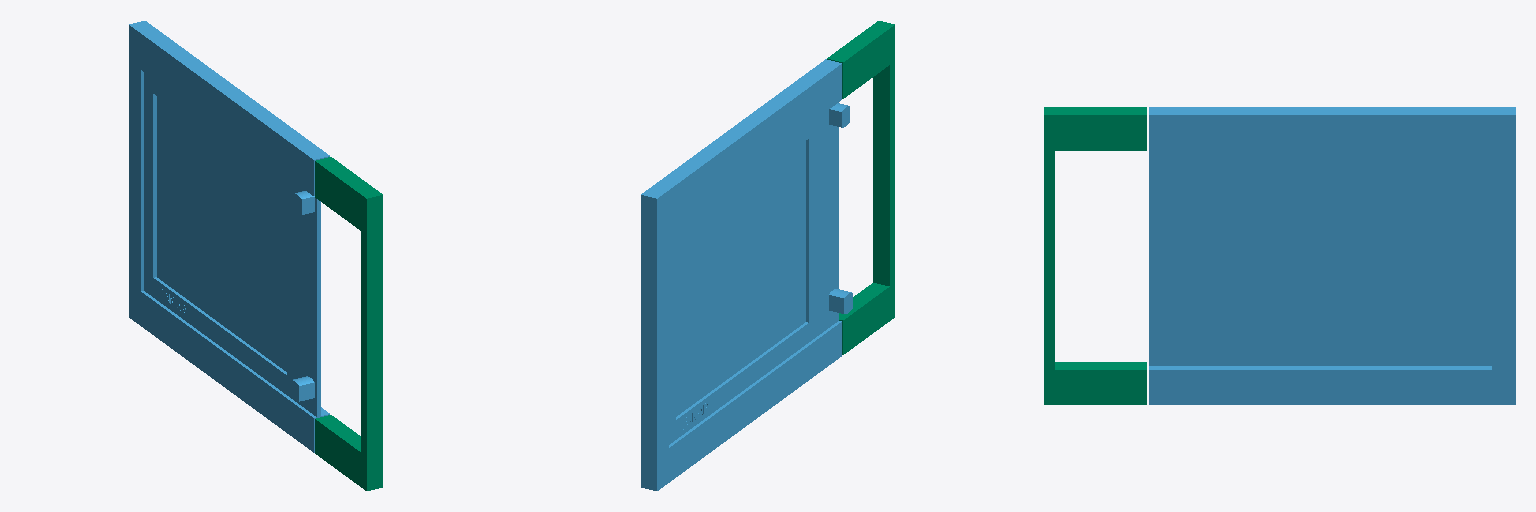
robot.urdf — partnet_c5d13a109a61060c178e7d331e641179:
<?xml version="1.0" ?>
<robot name="partnet_c5d13a109a61060c178e7d331e641179">
	<link name="base"/>
	<link name="link_0">
		<visual name="door_frame-5">
			<origin xyz="0.7663123617888119 -0.4711569999999998 -0.39380938953471023"/>
			<geometry>
				<mesh filename="textured_objs/original-1.obj"/>
			</geometry>
		</visual>
		<visual name="glass-6">
			<origin xyz="0.7663123617888119 -0.4711569999999998 -0.39380938953471023"/>
			<geometry>
				<mesh filename="textured_objs/original-6.obj"/>
			</geometry>
		</visual>
		<visual name="glass-6">
			<origin xyz="0.7663123617888119 -0.4711569999999998 -0.39380938953471023"/>
			<geometry>
				<mesh filename="textured_objs/original-9.obj"/>
			</geometry>
		</visual>
		<visual name="glass-6">
			<origin xyz="0.7663123617888119 -0.4711569999999998 -0.39380938953471023"/>
			<geometry>
				<mesh filename="textured_objs/original-17.obj"/>
			</geometry>
		</visual>
		<visual name="glass-6">
			<origin xyz="0.7663123617888119 -0.4711569999999998 -0.39380938953471023"/>
			<geometry>
				<mesh filename="textured_objs/original-10.obj"/>
			</geometry>
		</visual>
		<visual name="glass-6">
			<origin xyz="0.7663123617888119 -0.4711569999999998 -0.39380938953471023"/>
			<geometry>
				<mesh filename="textured_objs/original-11.obj"/>
			</geometry>
		</visual>
		<visual name="glass-6">
			<origin xyz="0.7663123617888119 -0.4711569999999998 -0.39380938953471023"/>
			<geometry>
				<mesh filename="textured_objs/original-12.obj"/>
			</geometry>
		</visual>
		<visual name="glass-6">
			<origin xyz="0.7663123617888119 -0.4711569999999998 -0.39380938953471023"/>
			<geometry>
				<mesh filename="textured_objs/original-13.obj"/>
			</geometry>
		</visual>
		<visual name="glass-6">
			<origin xyz="0.7663123617888119 -0.4711569999999998 -0.39380938953471023"/>
			<geometry>
				<mesh filename="textured_objs/original-14.obj"/>
			</geometry>
		</visual>
		<visual name="glass-6">
			<origin xyz="0.7663123617888119 -0.4711569999999998 -0.39380938953471023"/>
			<geometry>
				<mesh filename="textured_objs/original-15.obj"/>
			</geometry>
		</visual>
		<visual name="glass-6">
			<origin xyz="0.7663123617888119 -0.4711569999999998 -0.39380938953471023"/>
			<geometry>
				<mesh filename="textured_objs/original-16.obj"/>
			</geometry>
		</visual>
		<visual name="glass-6">
			<origin xyz="0.7663123617888119 -0.4711569999999998 -0.39380938953471023"/>
			<geometry>
				<mesh filename="textured_objs/original-3.obj"/>
			</geometry>
		</visual>
		<visual name="handle-7">
			<origin xyz="0.7663123617888119 -0.4711569999999998 -0.39380938953471023"/>
			<geometry>
				<mesh filename="textured_objs/original-19.obj"/>
			</geometry>
		</visual>
		<visual name="handle-7">
			<origin xyz="0.7663123617888119 -0.4711569999999998 -0.39380938953471023"/>
			<geometry>
				<mesh filename="textured_objs/original-21.obj"/>
			</geometry>
		</visual>
		<visual name="handle-7">
			<origin xyz="0.7663123617888119 -0.4711569999999998 -0.39380938953471023"/>
			<geometry>
				<mesh filename="textured_objs/original-20.obj"/>
			</geometry>
		</visual>
		<collision>
			<origin xyz="0.7663123617888119 -0.4711569999999998 -0.39380938953471023"/>
			<geometry>
				<mesh filename="textured_objs/original-1.obj"/>
			</geometry>
		</collision>
		<collision>
			<origin xyz="0.7663123617888119 -0.4711569999999998 -0.39380938953471023"/>
			<geometry>
				<mesh filename="textured_objs/original-6.obj"/>
			</geometry>
		</collision>
		<collision>
			<origin xyz="0.7663123617888119 -0.4711569999999998 -0.39380938953471023"/>
			<geometry>
				<mesh filename="textured_objs/original-9.obj"/>
			</geometry>
		</collision>
		<collision>
			<origin xyz="0.7663123617888119 -0.4711569999999998 -0.39380938953471023"/>
			<geometry>
				<mesh filename="textured_objs/original-17.obj"/>
			</geometry>
		</collision>
		<collision>
			<origin xyz="0.7663123617888119 -0.4711569999999998 -0.39380938953471023"/>
			<geometry>
				<mesh filename="textured_objs/original-10.obj"/>
			</geometry>
		</collision>
		<collision>
			<origin xyz="0.7663123617888119 -0.4711569999999998 -0.39380938953471023"/>
			<geometry>
				<mesh filename="textured_objs/original-11.obj"/>
			</geometry>
		</collision>
		<collision>
			<origin xyz="0.7663123617888119 -0.4711569999999998 -0.39380938953471023"/>
			<geometry>
				<mesh filename="textured_objs/original-12.obj"/>
			</geometry>
		</collision>
		<collision>
			<origin xyz="0.7663123617888119 -0.4711569999999998 -0.39380938953471023"/>
			<geometry>
				<mesh filename="textured_objs/original-13.obj"/>
			</geometry>
		</collision>
		<collision>
			<origin xyz="0.7663123617888119 -0.4711569999999998 -0.39380938953471023"/>
			<geometry>
				<mesh filename="textured_objs/original-14.obj"/>
			</geometry>
		</collision>
		<collision>
			<origin xyz="0.7663123617888119 -0.4711569999999998 -0.39380938953471023"/>
			<geometry>
				<mesh filename="textured_objs/original-15.obj"/>
			</geometry>
		</collision>
		<collision>
			<origin xyz="0.7663123617888119 -0.4711569999999998 -0.39380938953471023"/>
			<geometry>
				<mesh filename="textured_objs/original-16.obj"/>
			</geometry>
		</collision>
		<collision>
			<origin xyz="0.7663123617888119 -0.4711569999999998 -0.39380938953471023"/>
			<geometry>
				<mesh filename="textured_objs/original-3.obj"/>
			</geometry>
		</collision>
		<collision>
			<origin xyz="0.7663123617888119 -0.4711569999999998 -0.39380938953471023"/>
			<geometry>
				<mesh filename="textured_objs/original-19.obj"/>
			</geometry>
		</collision>
		<collision>
			<origin xyz="0.7663123617888119 -0.4711569999999998 -0.39380938953471023"/>
			<geometry>
				<mesh filename="textured_objs/original-21.obj"/>
			</geometry>
		</collision>
		<collision>
			<origin xyz="0.7663123617888119 -0.4711569999999998 -0.39380938953471023"/>
			<geometry>
				<mesh filename="textured_objs/original-20.obj"/>
			</geometry>
		</collision>
	</link>
	<joint name="joint_0" type="revolute">
		<origin xyz="-0.7663123617888119 0.4711569999999998 0.39380938953471023"/>
		<axis xyz="0 -1 0"/>
		<child link="link_0"/>
		<parent link="link_1"/>
		<limit lower="-0.0" upper="1.5707963267948966"/>
	</joint>
	<link name="link_1">
		<visual name="frame-2">
			<origin xyz="0 0 0"/>
			<geometry>
				<mesh filename="textured_objs/original-2.obj"/>
			</geometry>
		</visual>
		<visual name="frame-2">
			<origin xyz="0 0 0"/>
			<geometry>
				<mesh filename="textured_objs/new-11.obj"/>
			</geometry>
		</visual>
		<visual name="frame-2">
			<origin xyz="0 0 0"/>
			<geometry>
				<mesh filename="textured_objs/original-7.obj"/>
			</geometry>
		</visual>
		<collision>
			<origin xyz="0 0 0"/>
			<geometry>
				<mesh filename="textured_objs/original-2.obj"/>
			</geometry>
		</collision>
		<collision>
			<origin xyz="0 0 0"/>
			<geometry>
				<mesh filename="textured_objs/new-11.obj"/>
			</geometry>
		</collision>
		<collision>
			<origin xyz="0 0 0"/>
			<geometry>
				<mesh filename="textured_objs/original-7.obj"/>
			</geometry>
		</collision>
		<collision>
			<origin xyz="0 0 0"/>
			<geometry>
				<mesh filename="textured_objs/original-4.obj"/>
			</geometry>
		</collision>
	</link>
	<joint name="joint_1" type="fixed">
		<origin rpy="1.570796326794897 0 -1.570796326794897" xyz="0 0 0"/>
		<child link="link_1"/>
		<parent link="base"/>
	</joint>
</robot>

--- Render facts (derived) ---
The picture shows the robot from 3 angles, left to right: view 1: azimuth 30°, elevation 25°; view 2: azimuth 150°, elevation 25°; view 3: azimuth 270°, elevation 25°; orthographic projection.
Model partnet_c5d13a109a61060c178e7d331e641179 with 3 links and 2 joints (1 revolute, 1 fixed), rooted at base, posed all joints at 0.
Links seen in each view (by area): view 1: link_0, link_1; view 2: link_0, link_1; view 3: link_0, link_1.
Boxes of the visible links, x1,y1,x2,y2 form: link_0: [129, 21, 329, 452]; link_1: [315, 157, 382, 490]; link_0: [641, 59, 852, 490]; link_1: [827, 21, 894, 354]; link_0: [1149, 107, 1515, 404]; link_1: [1044, 107, 1146, 404].
Size in the robot's own frame: 0.0923 by 1.31 by 0.8896 metres.
14 mesh visuals loaded from 18 distinct referenced files (14 OBJ); not drawn: 4 (reference not matched to a file when rendering).